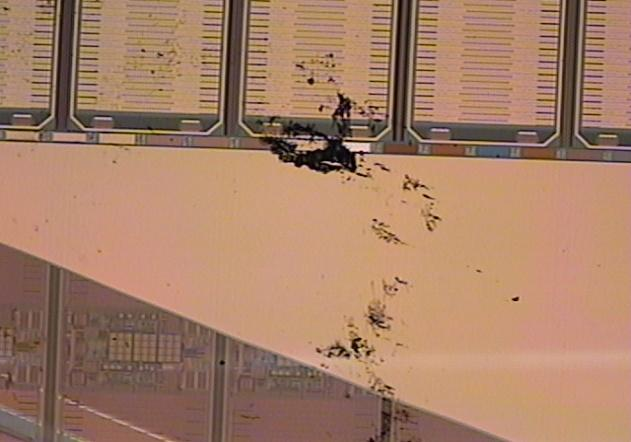PO CONTAMINATION: (1, 2, 524, 442)
